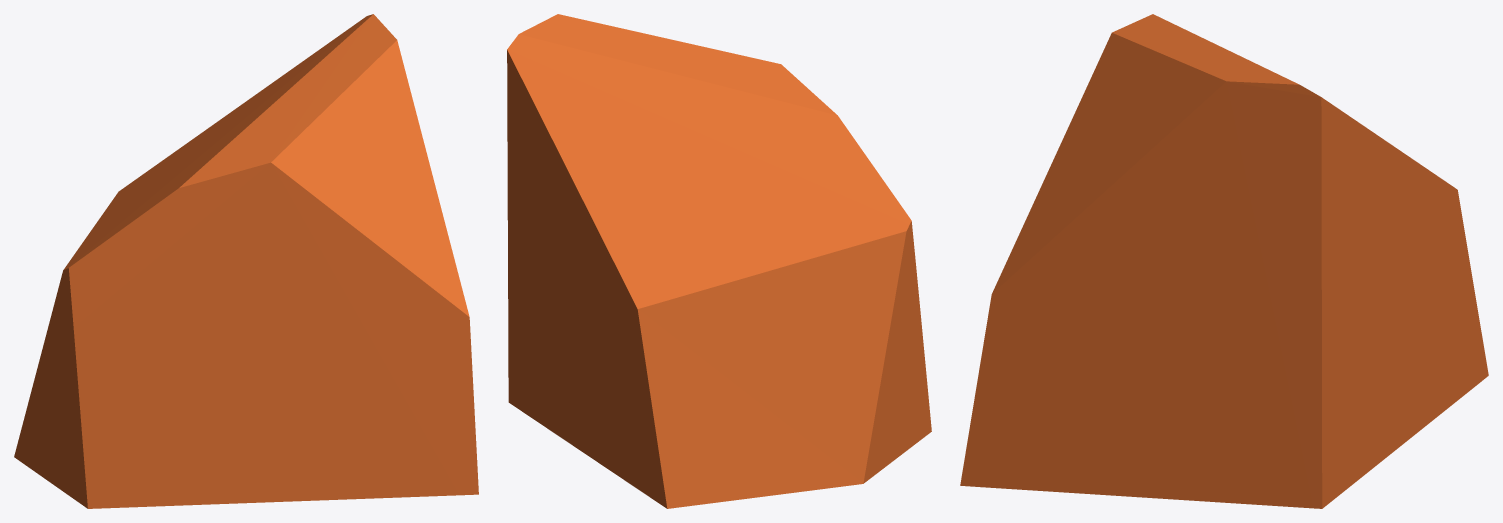
The model's file is SMALLROCK01.fbx.
3 renders of one model, left to right at view 1: azimuth 30°, elevation 25°; view 2: azimuth 150°, elevation 25°; view 3: azimuth 270°, elevation 25°, orthographic. The views are drawn at different scales.
Visible parts, largest first — view 1: SMALLROCK01; view 2: SMALLROCK01; view 3: SMALLROCK01.
Boxes of the visible parts, x1,y1,x2,y2 form: SMALLROCK01: (14,14,478,508); SMALLROCK01: (507,14,931,508); SMALLROCK01: (960,14,1488,508).
Bounding box in the file's own units: 27.97 × 27.35 × 30.9.
